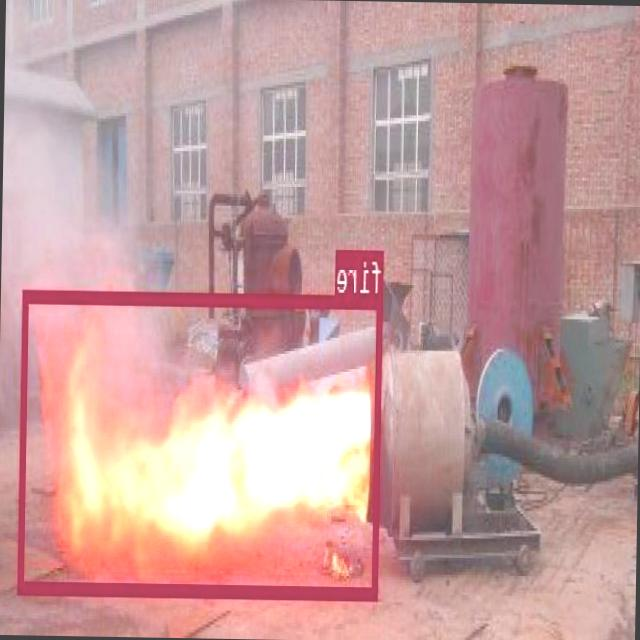fire: (19, 289, 383, 596)
